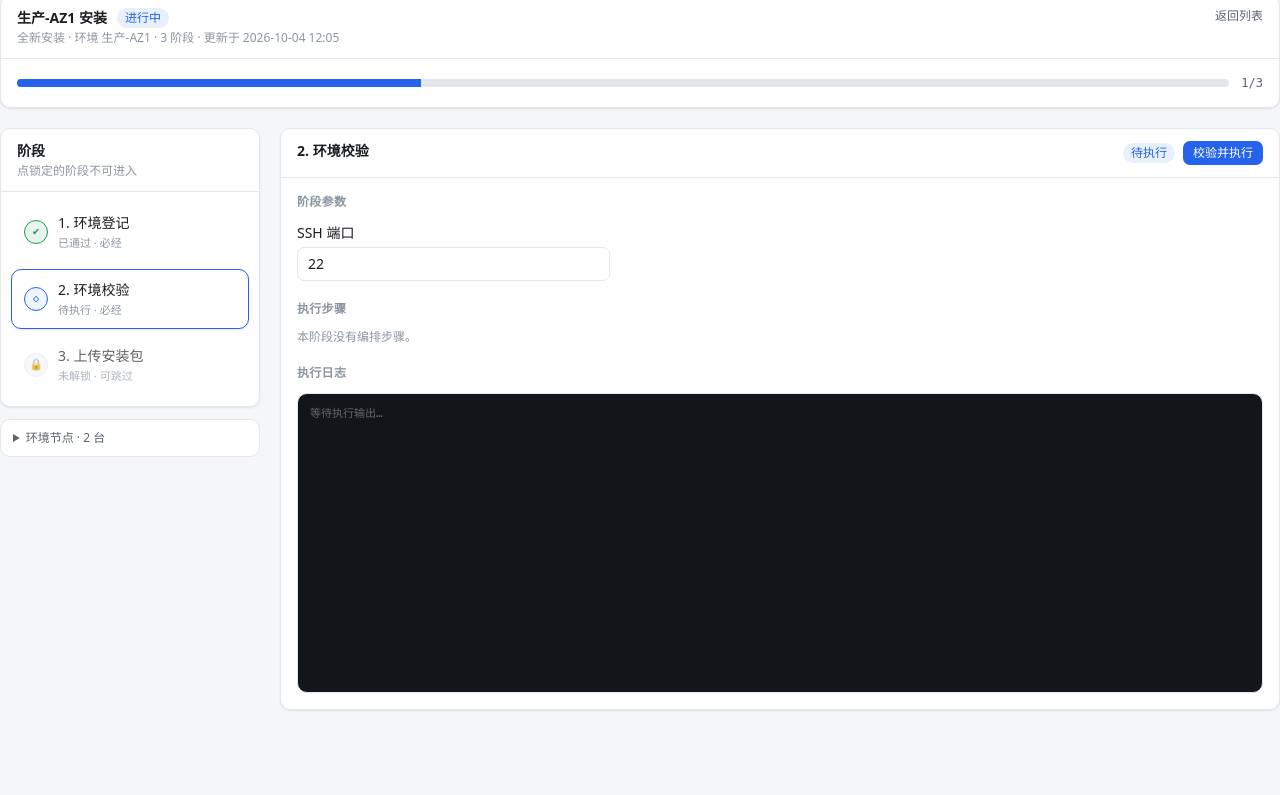
Test: FlowWizard 页头与落点 › passed 阶段下方出现「下一步」入口，点击切到刚解锁的阶段
The width and height of the screenshot is (1280, 795).
expect the text "生产-AZ1 安装" is shown: met, box [17, 8, 107, 27]
Click the button "✔ 1. 环境登记 已通过 · 必经".
click(130, 232)  # box [11, 202, 249, 262]
(page scrolled)
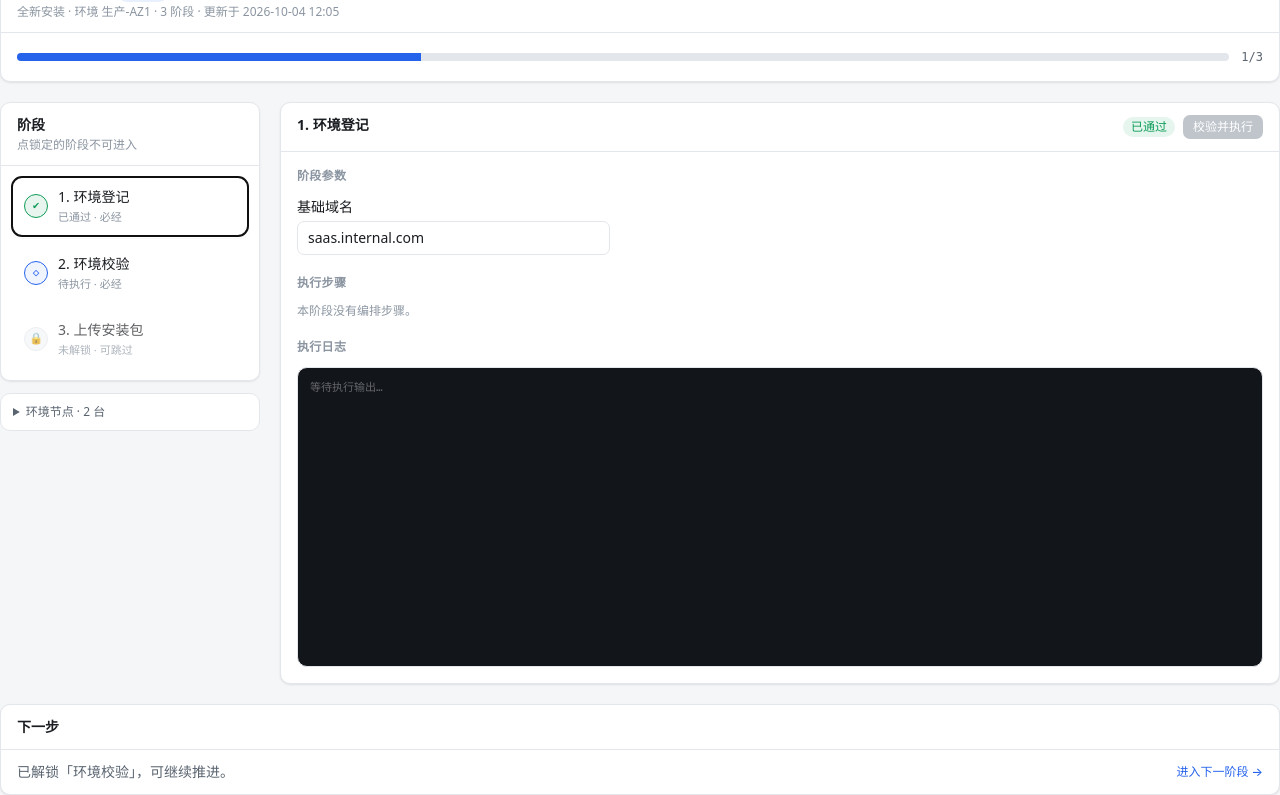
expect the text "已解锁「环境校验」，可继续推进。" is shown: met, box [17, 762, 234, 782]
Click the button "进入下一阶段 →".
click(1220, 772)  # box [1176, 764, 1263, 780]
(page scrolled)
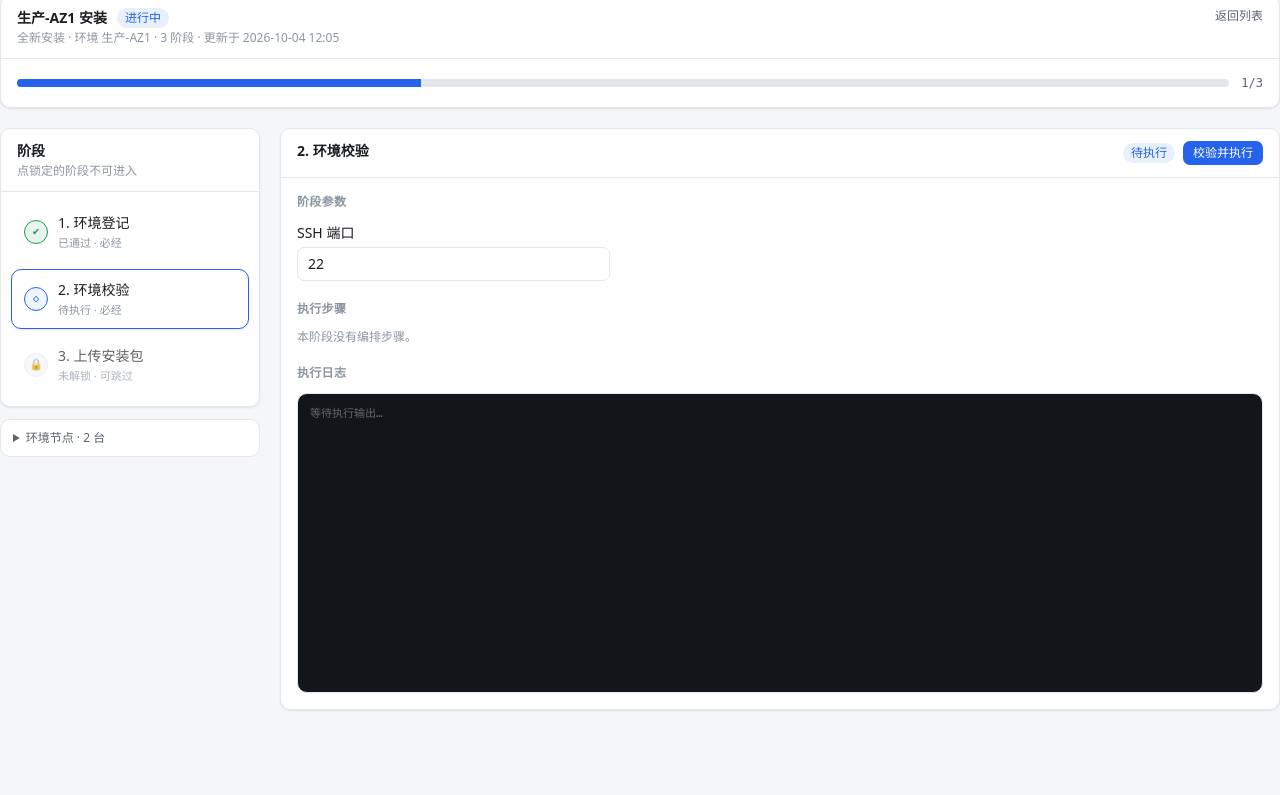
expect the heading "2. 环境校验" is shown: met, box [297, 141, 369, 161]
expect the heading "下一步" is gone: met
